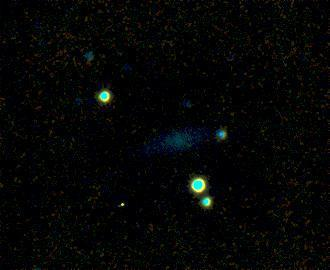star: (109, 188, 139, 218)
